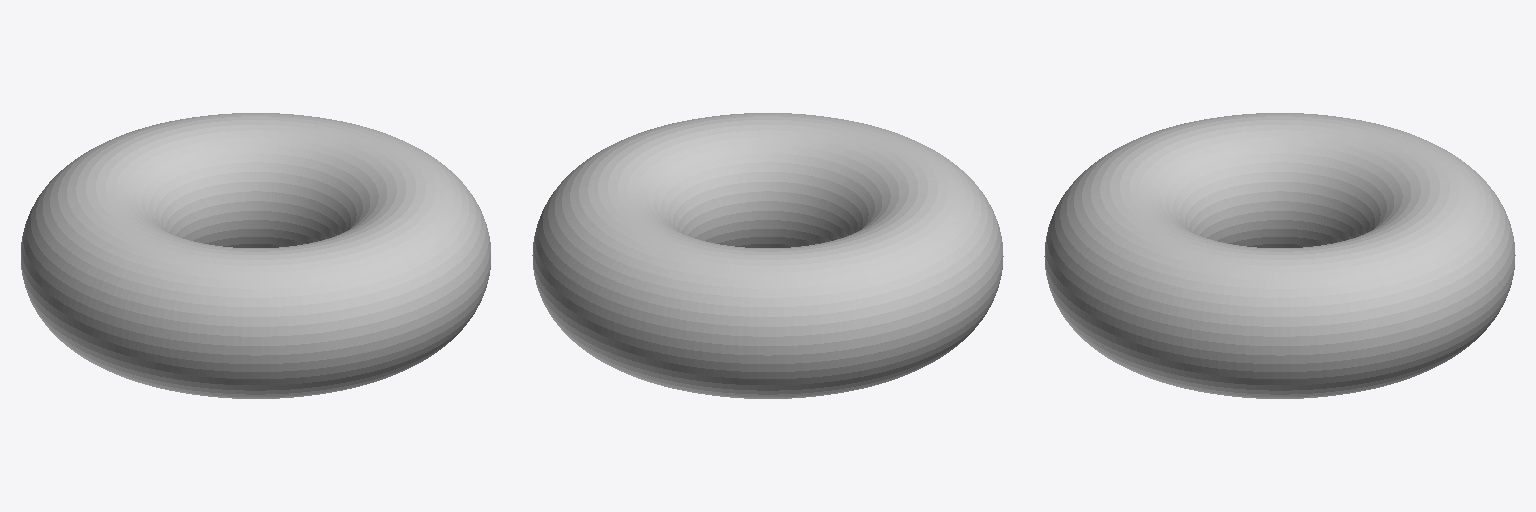
File: donut.obj
3 renders of one model, left to right at view 1: azimuth 30°, elevation 25°; view 2: azimuth 150°, elevation 25°; view 3: azimuth 270°, elevation 25°, orthographic.
Visible parts, largest first — view 1: donut_1_Torus.006; view 2: donut_1_Torus.006; view 3: donut_1_Torus.006.
Part boxes in pixels (left/top/right/bottom): donut_1_Torus.006: left=21, top=113, right=490, bottom=398; donut_1_Torus.006: left=532, top=113, right=1003, bottom=398; donut_1_Torus.006: left=1044, top=113, right=1515, bottom=398.
Bounding box in the file's own units: 2.93 × 0.939 × 2.93.